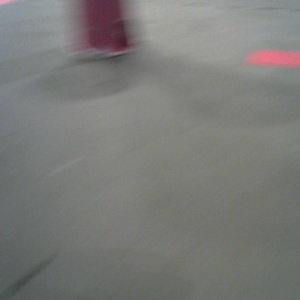middle: (61, 1, 139, 59)
